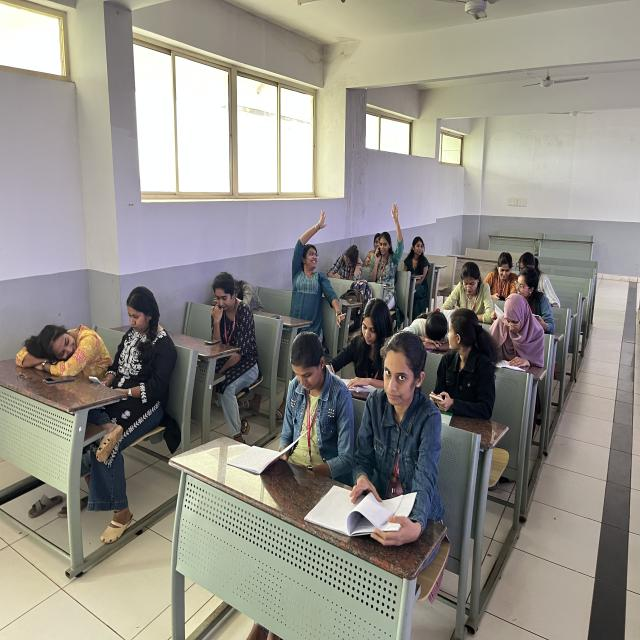Hand Rising: (278, 208, 348, 328), (380, 198, 408, 288)
Reading: (434, 259, 498, 321)
Sleeping: (9, 307, 118, 395)
Using Phone: (86, 284, 175, 442), (274, 316, 346, 461), (197, 263, 263, 400), (425, 304, 495, 418), (480, 248, 521, 304)
Writing: (324, 294, 399, 388), (480, 288, 547, 370), (323, 241, 368, 286)
